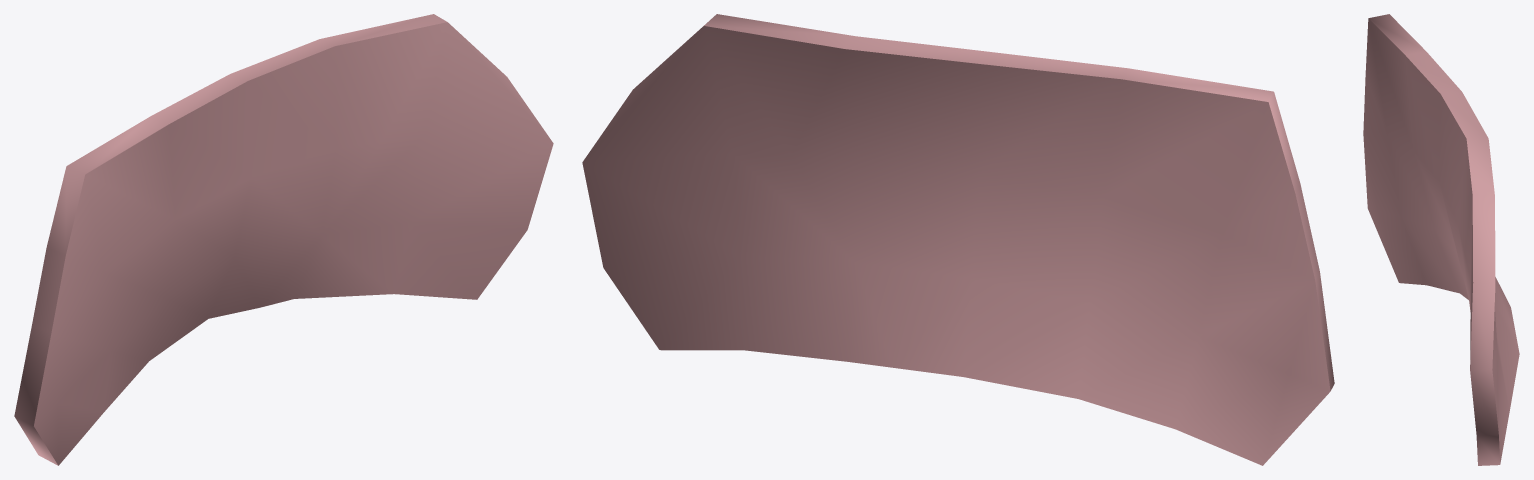
The picture shows the model from 3 angles, left to right: view 1: azimuth 30°, elevation 25°; view 2: azimuth 150°, elevation 25°; view 3: azimuth 270°, elevation 25°; orthographic projection. The views are drawn at different scales.
Visible parts, largest first — view 1: ZA_38af4bbb5f7bf772; view 2: ZA_38af4bbb5f7bf772; view 3: ZA_38af4bbb5f7bf772.
Boxes of the visible parts, x1,y1,x2,y2 form: ZA_38af4bbb5f7bf772: (14, 14, 553, 465); ZA_38af4bbb5f7bf772: (582, 14, 1334, 465); ZA_38af4bbb5f7bf772: (1363, 14, 1519, 465).
Size of the model in its own units: 0.0809 by 0.0417 by 0.021.
